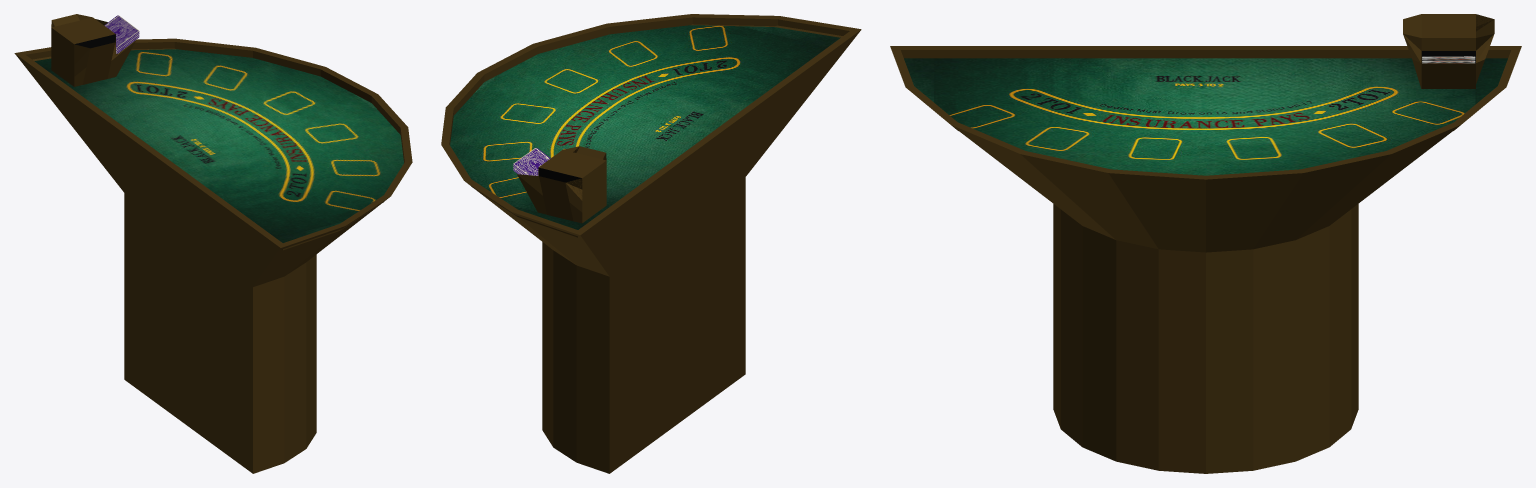
Rendered from mesaBLACKJACK.glb.
3 renders of one model, left to right at view 1: azimuth 30°, elevation 25°; view 2: azimuth 150°, elevation 25°; view 3: azimuth 270°, elevation 25°, orthographic. The views are drawn at different scales.
Parts seen in each view (by area): view 1: Cilindro.005, Cubo.011, Cubo.014; view 2: Cilindro.005, Cubo.011, Cubo.014; view 3: Cilindro.005, Cubo.011.
Boxes of the visible parts, x1,y1,x2,y2 form: Cilindro.005: (14, 38, 412, 473); Cubo.011: (51, 14, 135, 86); Cubo.014: (104, 15, 139, 48); Cilindro.005: (441, 14, 861, 473); Cubo.011: (517, 146, 606, 223); Cubo.014: (513, 148, 550, 175); Cilindro.005: (890, 46, 1521, 473); Cubo.011: (1403, 14, 1494, 88).
Bounding box in the file's own units: 33.85 × 45.12 × 67.7.
6 materials, 4 textured.
